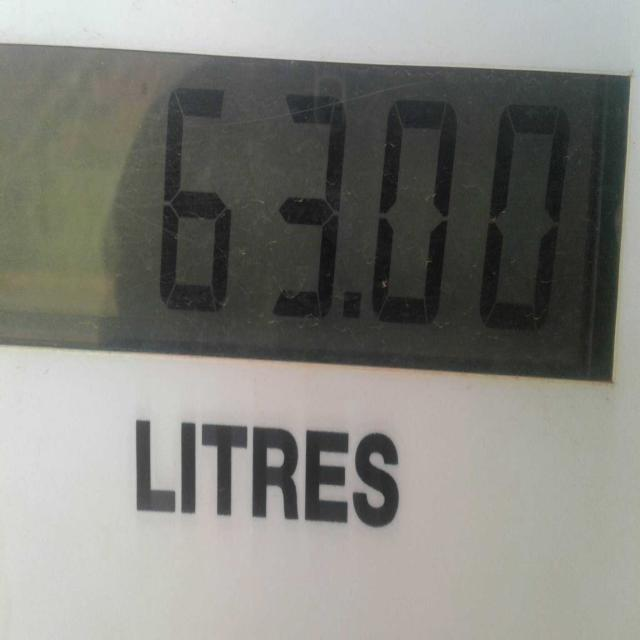.: (333, 266, 371, 350)
0: (473, 73, 573, 371), (362, 73, 461, 357)
3: (258, 62, 354, 344)
6: (146, 73, 259, 336)
